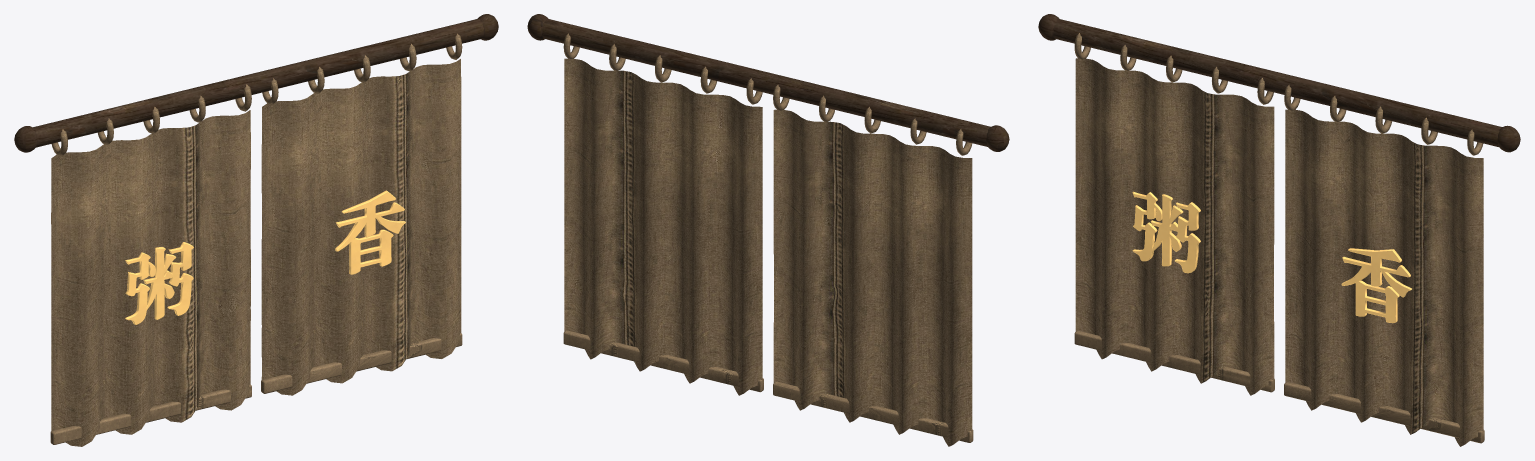
Rendered from PROP_WarmWood_Curtain_A.glb.
The picture shows the model from 3 angles, left to right: view 1: azimuth 30°, elevation 25°; view 2: azimuth 150°, elevation 25°; view 3: azimuth 330°, elevation 25°; orthographic projection.
Parts seen in each view (by area): view 1: PROP_WarmWood_Curtain_A; view 2: PROP_WarmWood_Curtain_A; view 3: PROP_WarmWood_Curtain_A.
Part boxes in pixels (bbox=[...]): PROP_WarmWood_Curtain_A: bbox=[14, 14, 498, 446]; PROP_WarmWood_Curtain_A: bbox=[527, 14, 1009, 446]; PROP_WarmWood_Curtain_A: bbox=[1038, 14, 1520, 446].
Size of the model in its own units: 1.2 by 0.789 by 0.0695.
3 materials, 3 textured.
